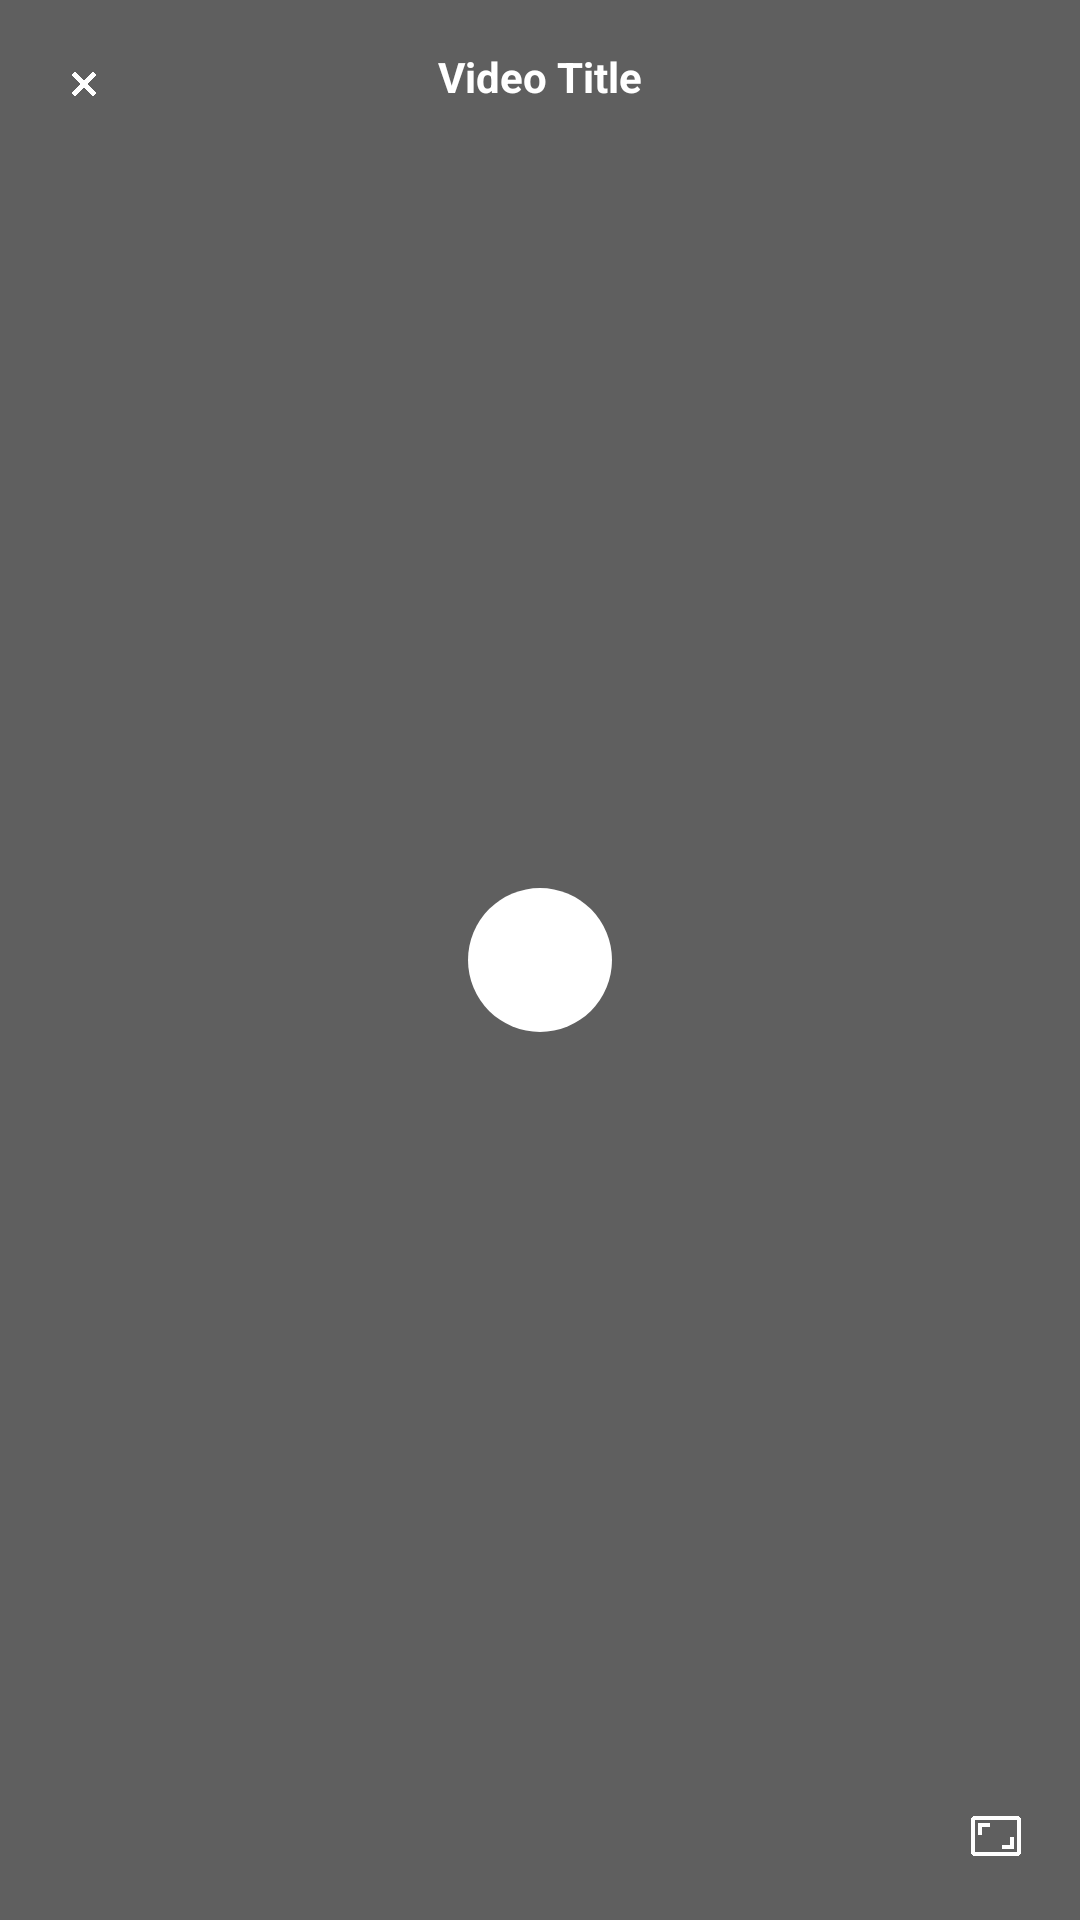

Icon bounding boxes for this 1080w x 1920h phone screenshot, format bbox=(x1, y1, x2, y2):
close: bbox=(72, 72, 96, 96)
scale: bbox=(971, 1816, 1021, 1856)
